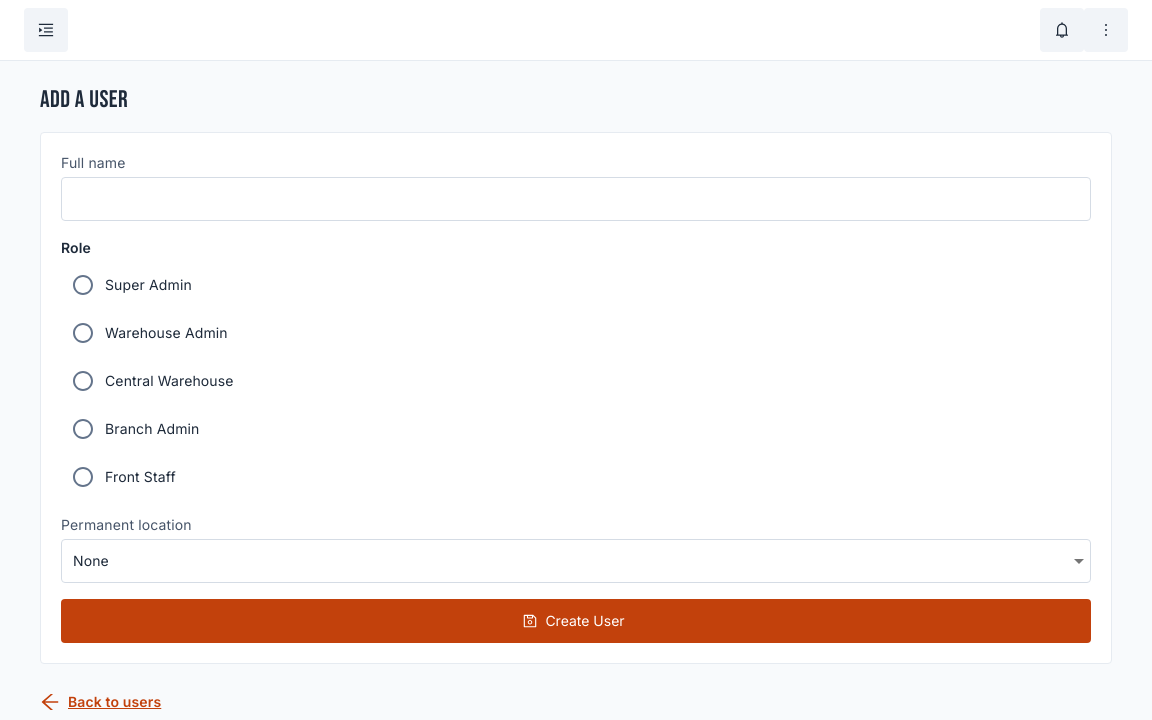
Scenario: create a user: one-time password shown once › offers one role (radio buttons) when /me does not allow several
Check: the heading "Add a user" is shown, box [40, 85, 128, 114]
Click the button "Create user" at (576, 621), box [61, 599, 1091, 643]
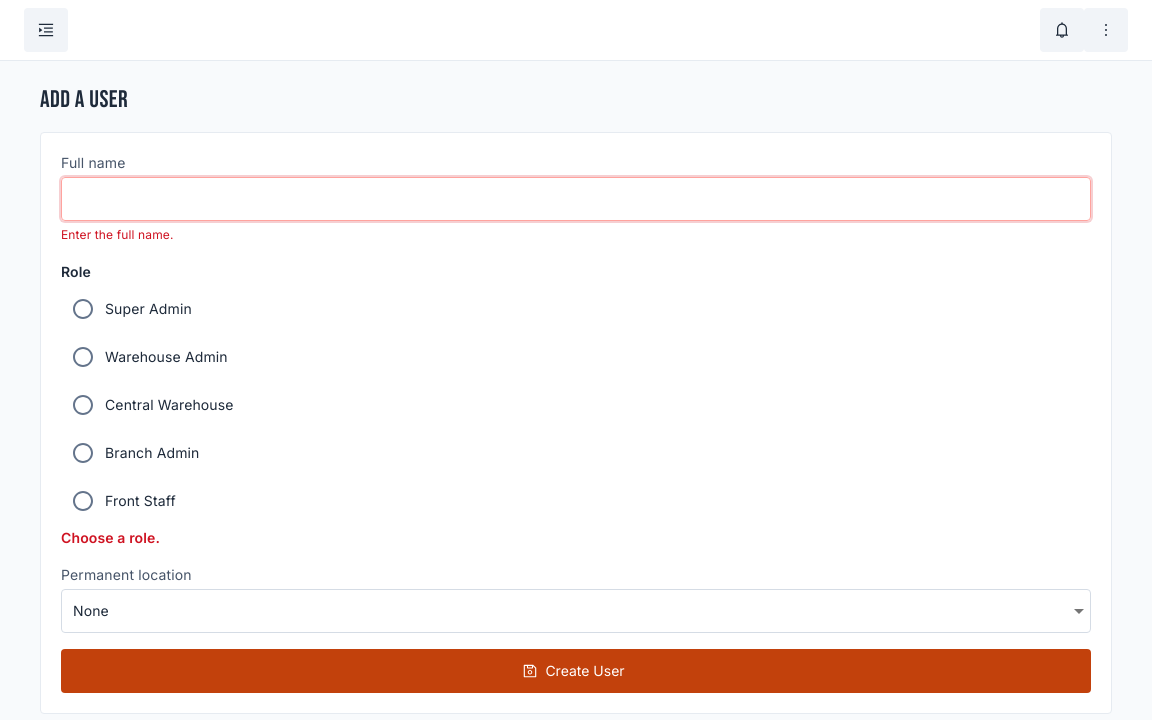
Check: the text "Choose a role." is shown, box [61, 529, 160, 546]
